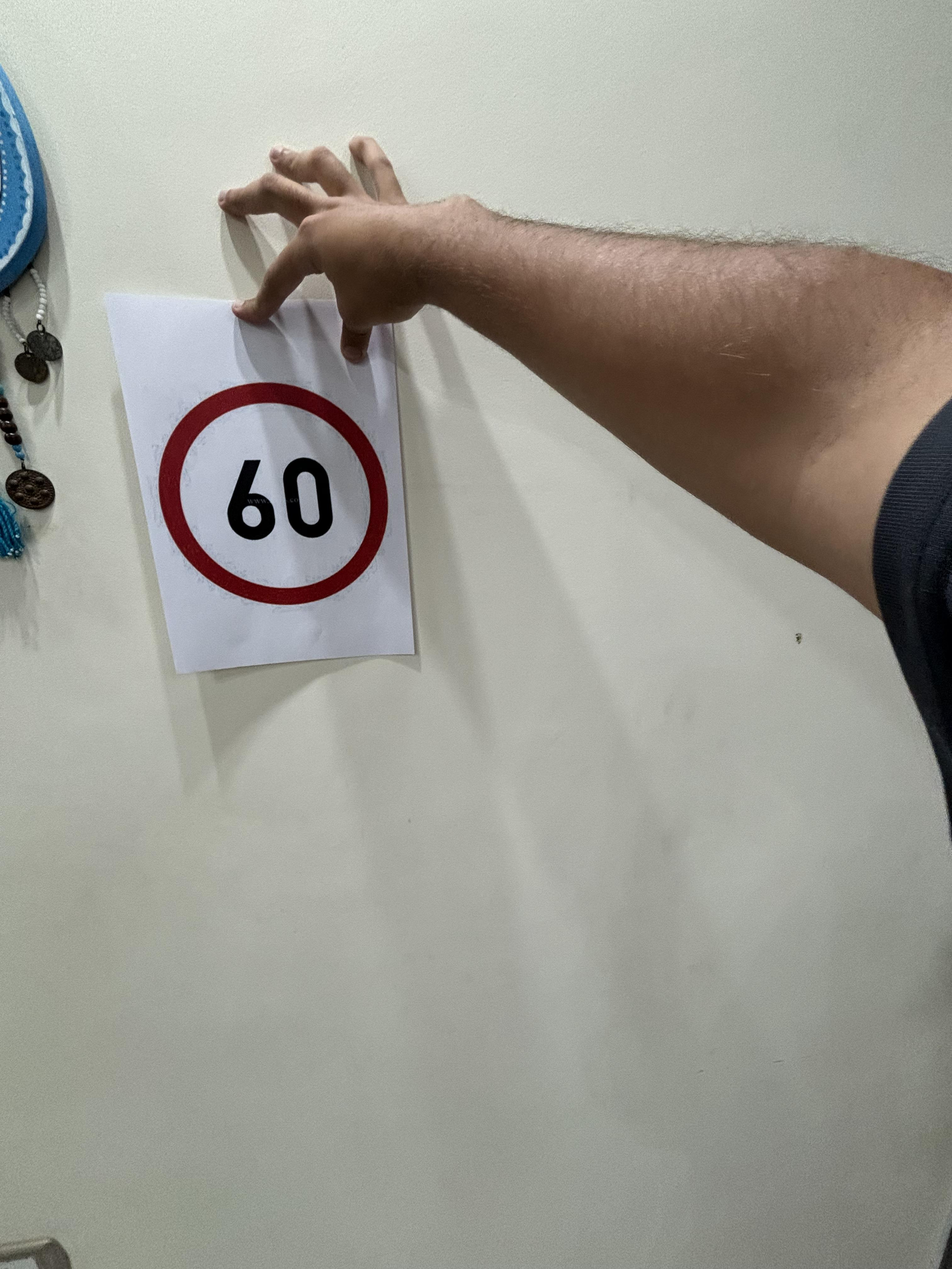60-Speed: (158, 369, 397, 613)
